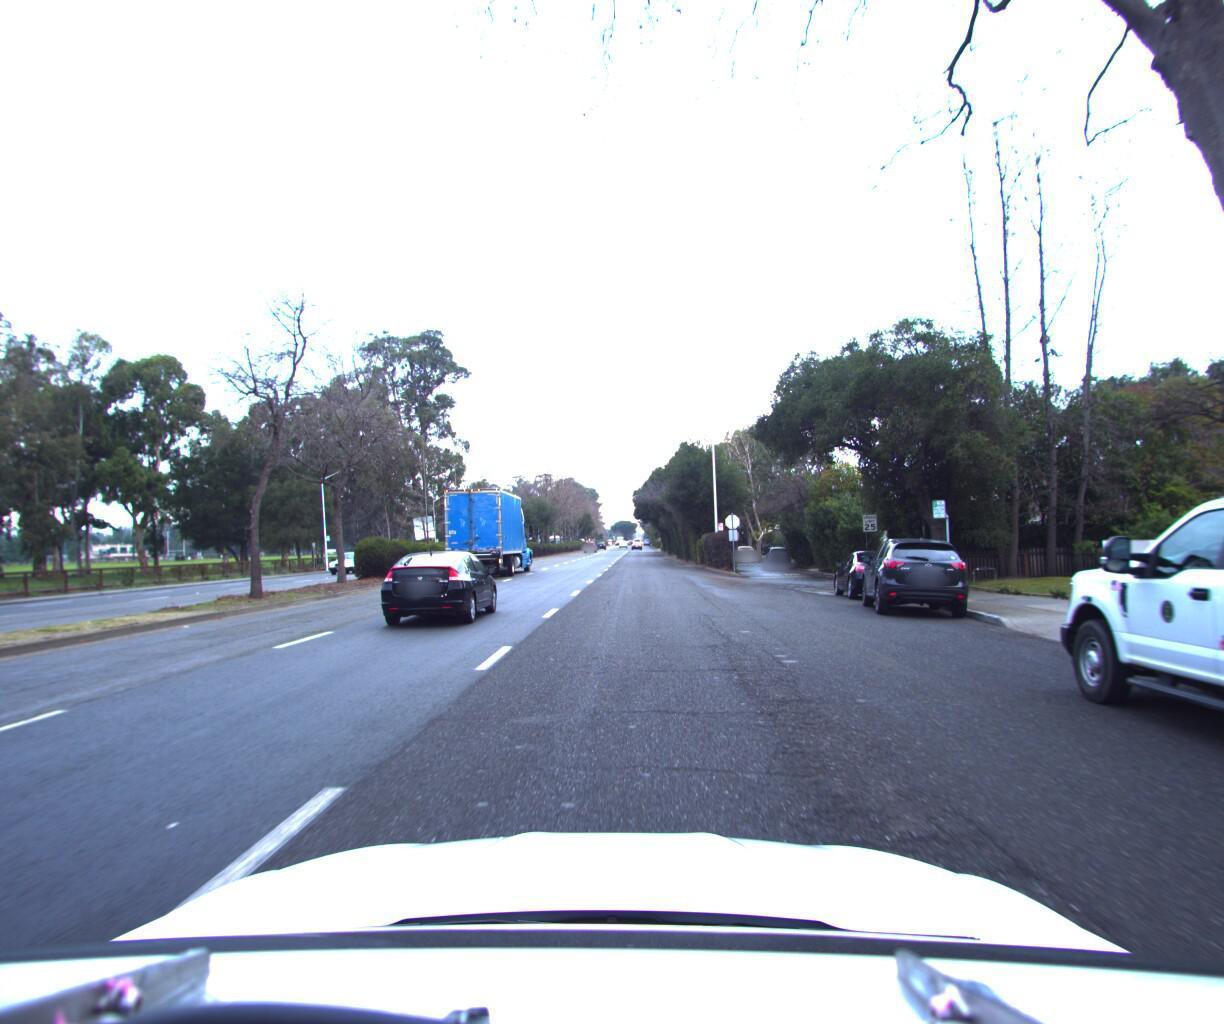car: (1021, 372, 1224, 1010), (853, 525, 981, 612), (377, 542, 506, 624), (824, 537, 928, 596), (324, 545, 374, 573), (762, 539, 792, 562), (731, 538, 756, 556)
truck: (430, 477, 542, 581)
